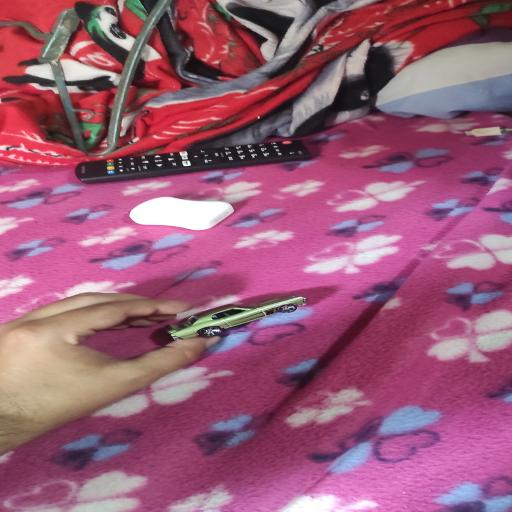Carrito: (166, 296, 307, 341)
